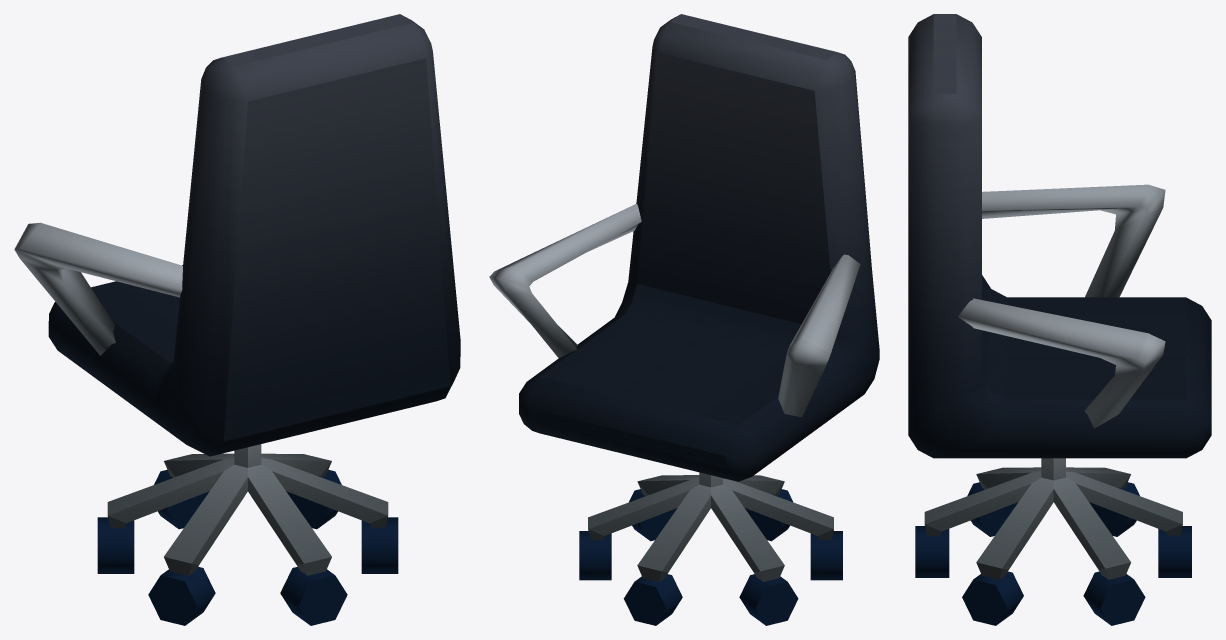
The model's file is Chair_01.fbx.
The picture shows the model from 3 angles, left to right: view 1: azimuth 30°, elevation 25°; view 2: azimuth 150°, elevation 25°; view 3: azimuth 270°, elevation 25°; orthographic projection. The views are drawn at different scales.
Visible parts, largest first — view 1: Object029; view 2: Object029; view 3: Object029.
Part boxes in pixels (left/top/right/bottom): Object029: left=14, top=14, right=460, bottom=625; Object029: left=489, top=14, right=879, bottom=625; Object029: left=908, top=14, right=1211, bottom=625.
Size of the model in its own units: 87.73 by 123 by 64.67.
